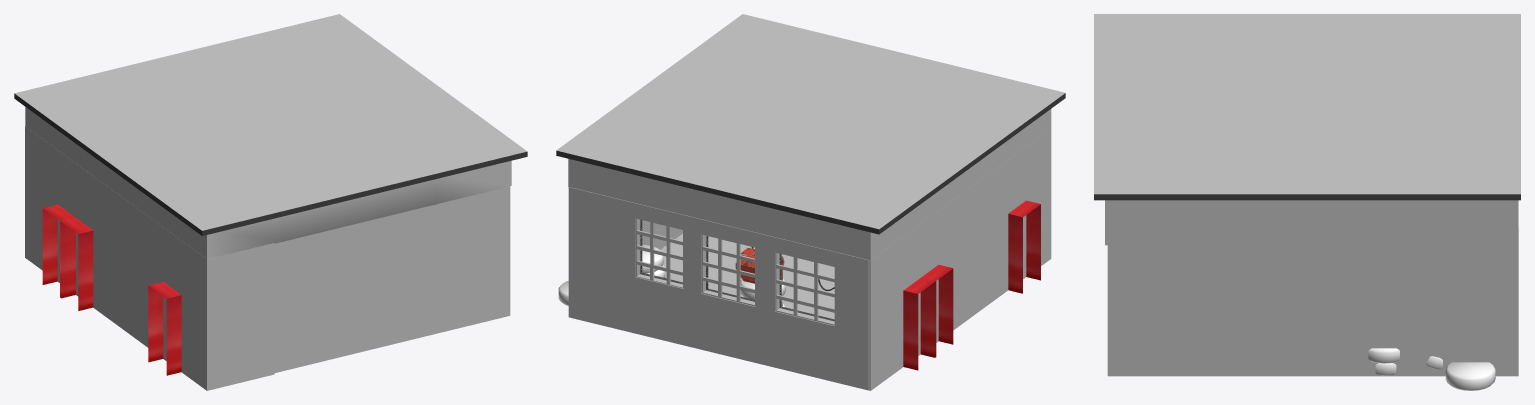
Rendered from Garaje.fbx.
3 views of the same model, side by side, from view 1: azimuth 30°, elevation 25°; view 2: azimuth 150°, elevation 25°; view 3: azimuth 270°, elevation 25° (orthographic). The views are drawn at different scales.
Parts seen in each view (by area): view 1: Cube, Plane.002, Plane.007, Cube.006, Cube.010, Cube.003; view 2: Cube, Plane.002, Plane.007, Plane.003, Plane.005, Cube.003, Cube.006, Cube.010, Plane.004, TirePile2, ID1_Robot01.001; view 3: Cube, Plane.002, TirePile2.
Part boxes in pixels (x1,y1,x2,y2): Cube: (14, 14, 527, 259); Plane.002: (274, 186, 510, 372); Plane.007: (25, 126, 274, 390); Cube.006: (148, 282, 181, 375); Cube.010: (42, 204, 75, 298); Cube.003: (60, 218, 93, 310); Cube: (556, 14, 1065, 260); Plane.002: (568, 187, 869, 390); Plane.007: (869, 128, 1051, 390); Plane.003: (635, 218, 834, 325); Plane.005: (660, 234, 834, 319); Cube.003: (920, 264, 953, 357); Cube.006: (1008, 200, 1040, 293); Cube.010: (903, 277, 936, 370); Plane.004: (640, 219, 834, 321); TirePile2: (558, 245, 665, 305); ID1_Robot01.001: (735, 247, 784, 283); Cube: (1094, 14, 1520, 228); Plane.002: (1107, 200, 1518, 376); TirePile2: (1368, 348, 1495, 390).
Size of the model in its own units: 1833 by 844 by 1715.
